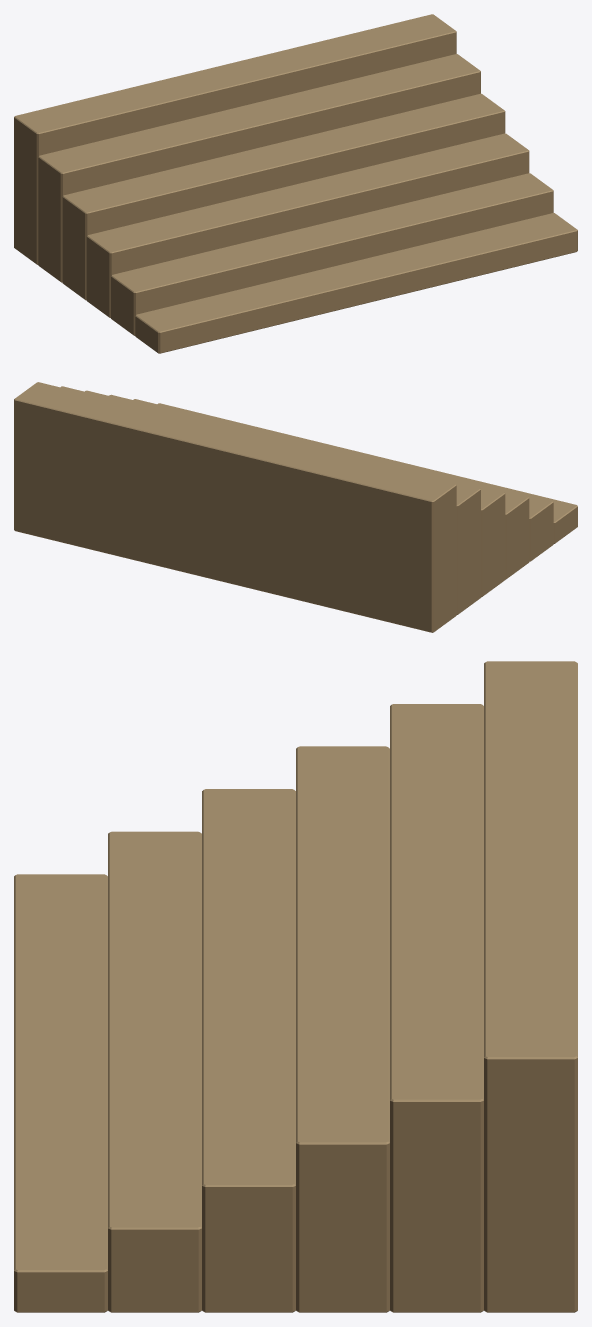
File: stair-wide.glb
The picture shows the model from 3 angles, top to bottom: view 1: azimuth 30°, elevation 25°; view 2: azimuth 150°, elevation 25°; view 3: azimuth 270°, elevation 25°; orthographic projection. The views are drawn at different scales.
Visible parts, largest first — view 1: stair-wide__body; view 2: stair-wide__body; view 3: stair-wide__body.
Boxes of the visible parts, bbox=[...] form: stair-wide__body: bbox=[14, 14, 577, 353]; stair-wide__body: bbox=[14, 382, 577, 632]; stair-wide__body: bbox=[14, 661, 577, 1312].
Size of the model in its own units: 4 by 1.2 by 2.4.
